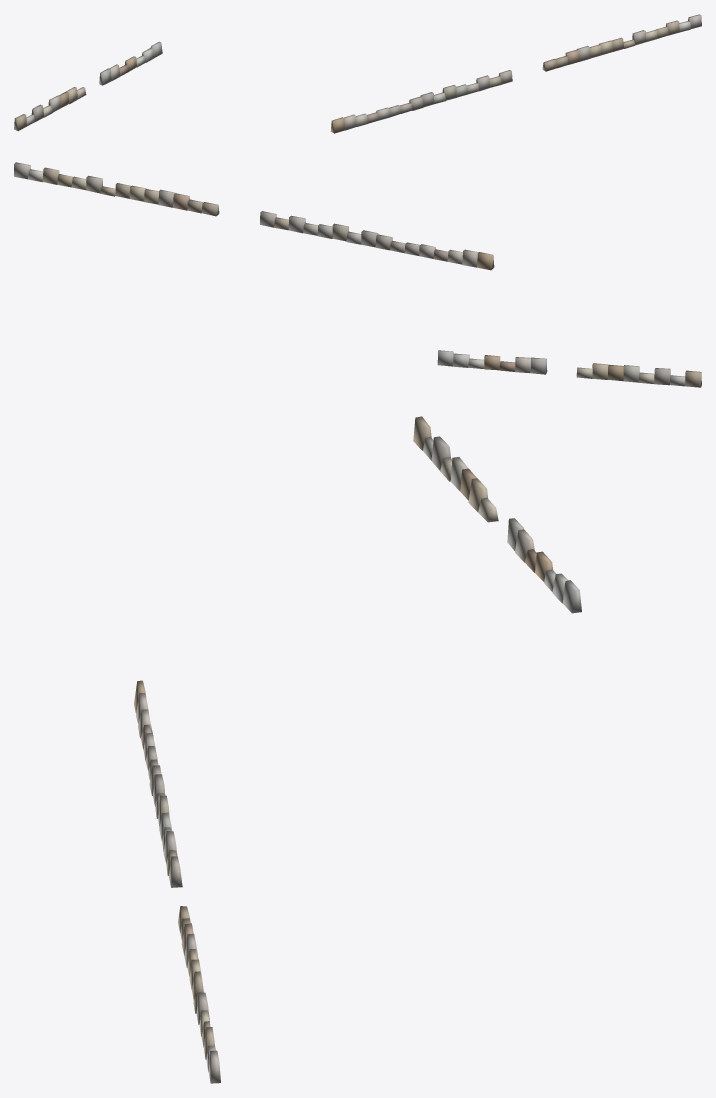
Rendered from farm_11_4_far.glb.
The picture shows the model from 3 angles, top to bottom: view 1: azimuth 30°, elevation 25°; view 2: azimuth 150°, elevation 25°; view 3: azimuth 270°, elevation 25°; orthographic projection. The views are drawn at different scales.
Visible parts, largest first — view 1: geometry_0; view 2: geometry_0; view 3: geometry_0.
Part boxes in pixels (box(x1,y1,x2,y2)): geometry_0: box(14, 14, 701, 133); geometry_0: box(14, 162, 701, 387); geometry_0: box(134, 416, 581, 1083).
Bounding box in the file's own units: 83.76 × 3.41 × 25.61.
